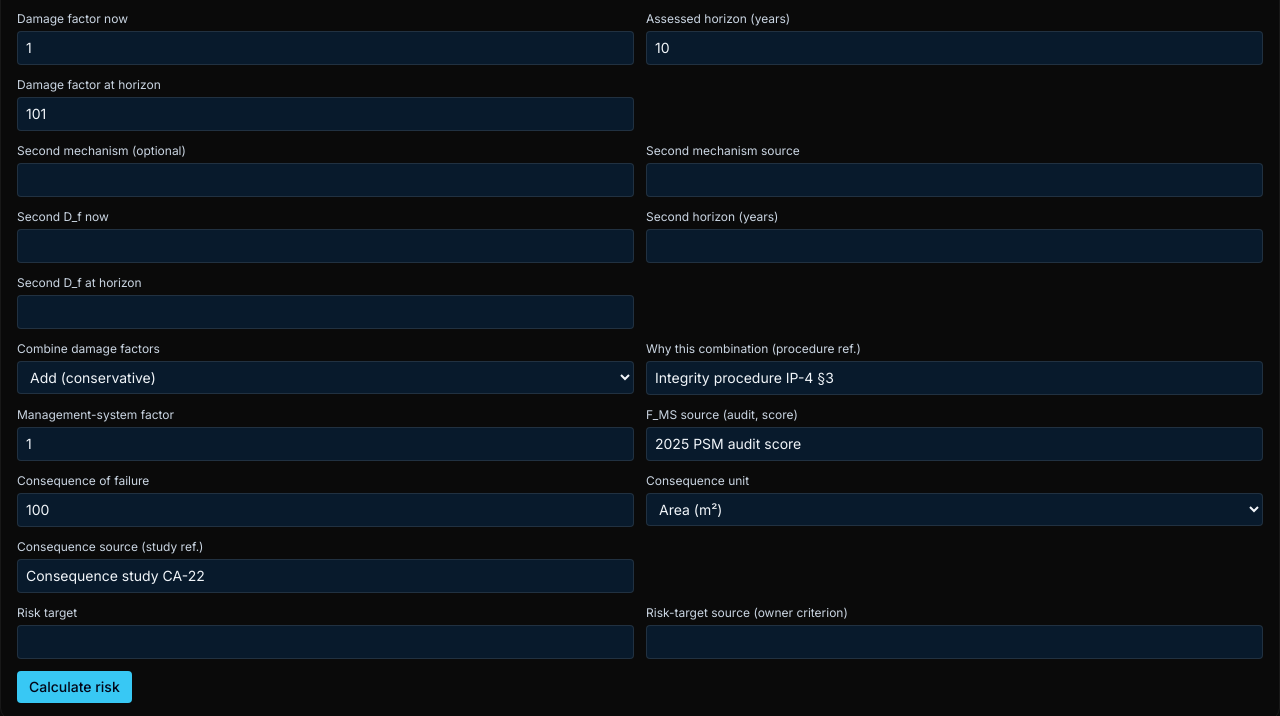
Test: RbiPlanner › shows the kernel's refusal when a source is too thin
Earlier steps of the test are not shown.
(page scrolled)
In the number field labelled "Risk target": (326, 642) [17,625,634,659], type "0.05"
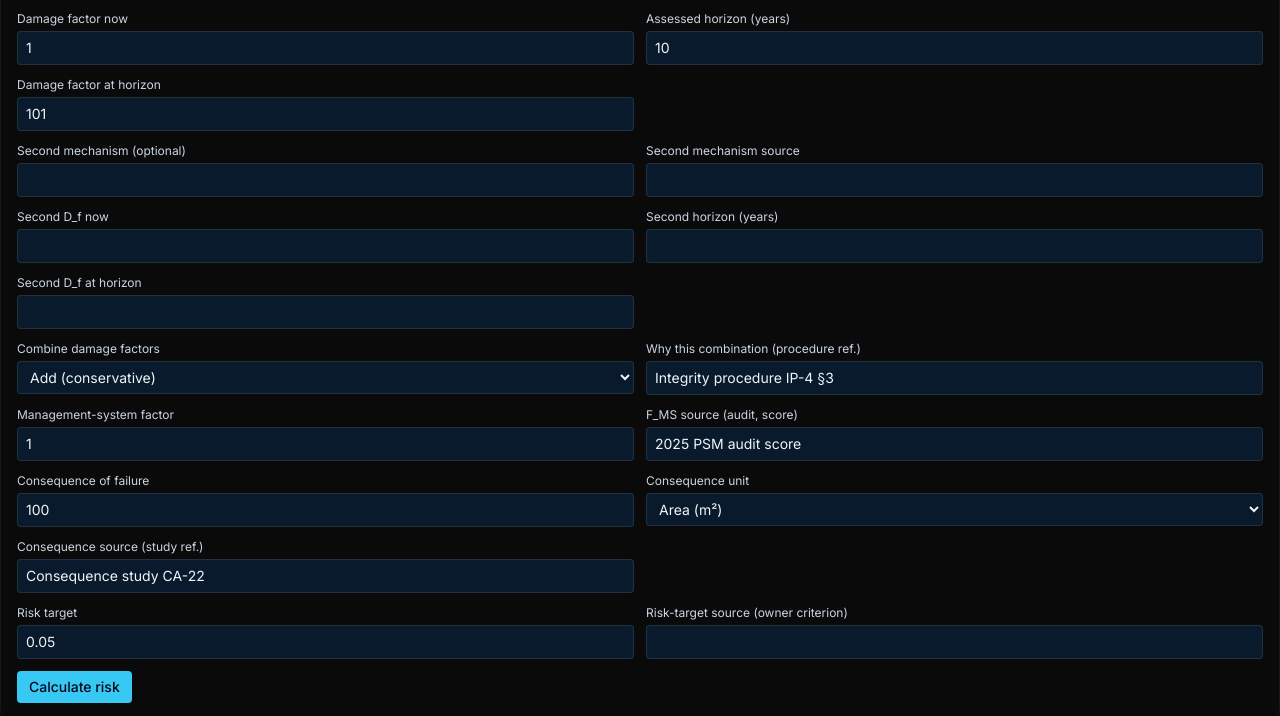
In the field labelled "Risk-target source (owner criterion)": (954, 642) [646,625,1263,659], type "Integrity risk target IRT-1"
(page scrolled)
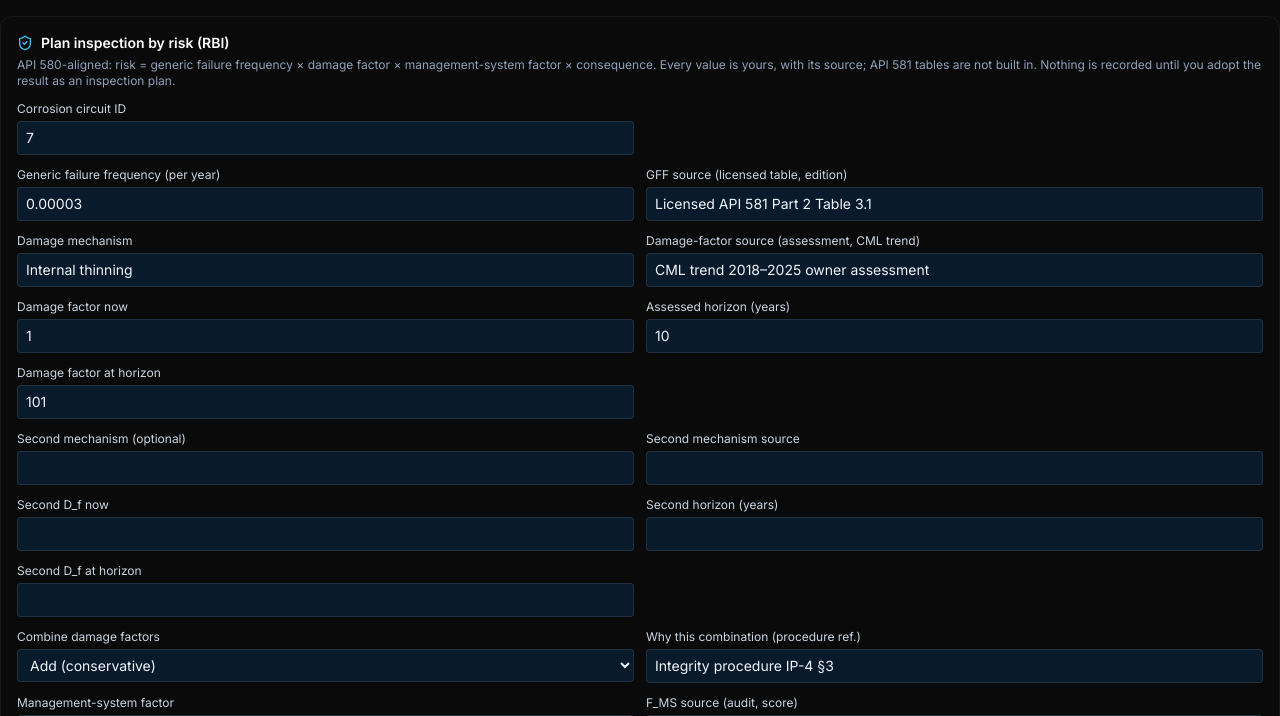
Replace the text in the field labelled "GFF source (licensed table, edition)" with "table": (954, 204) [646,187,1263,221]
(page scrolled)
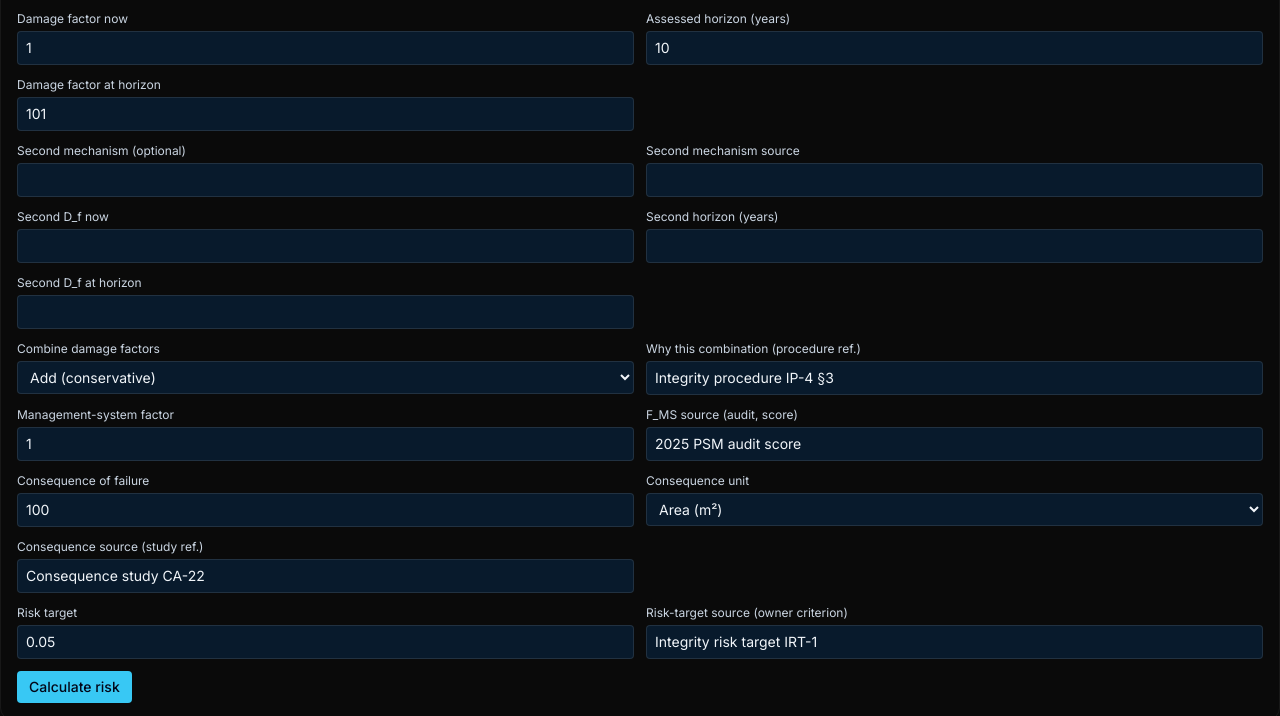
Click the button "Calculate risk": (74, 687) [17,671,132,703]
(page scrolled)
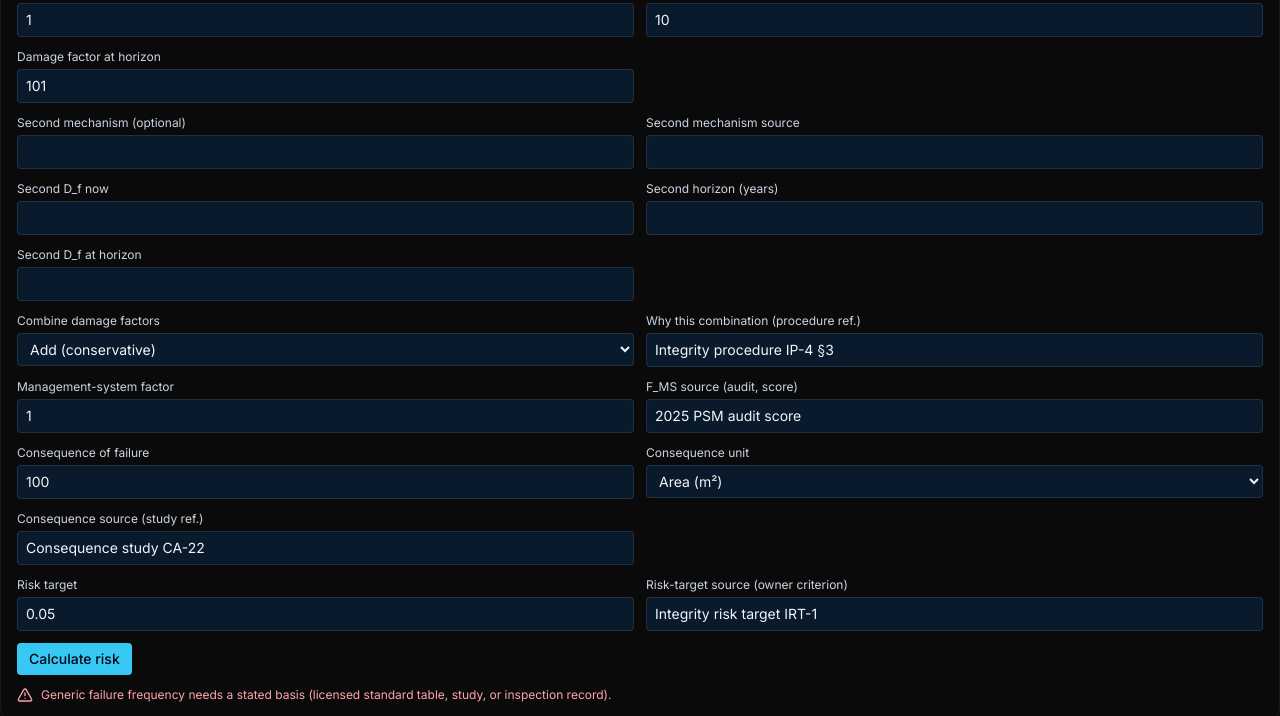
Result: the message shows "stated basis" at [41,687,612,702]
